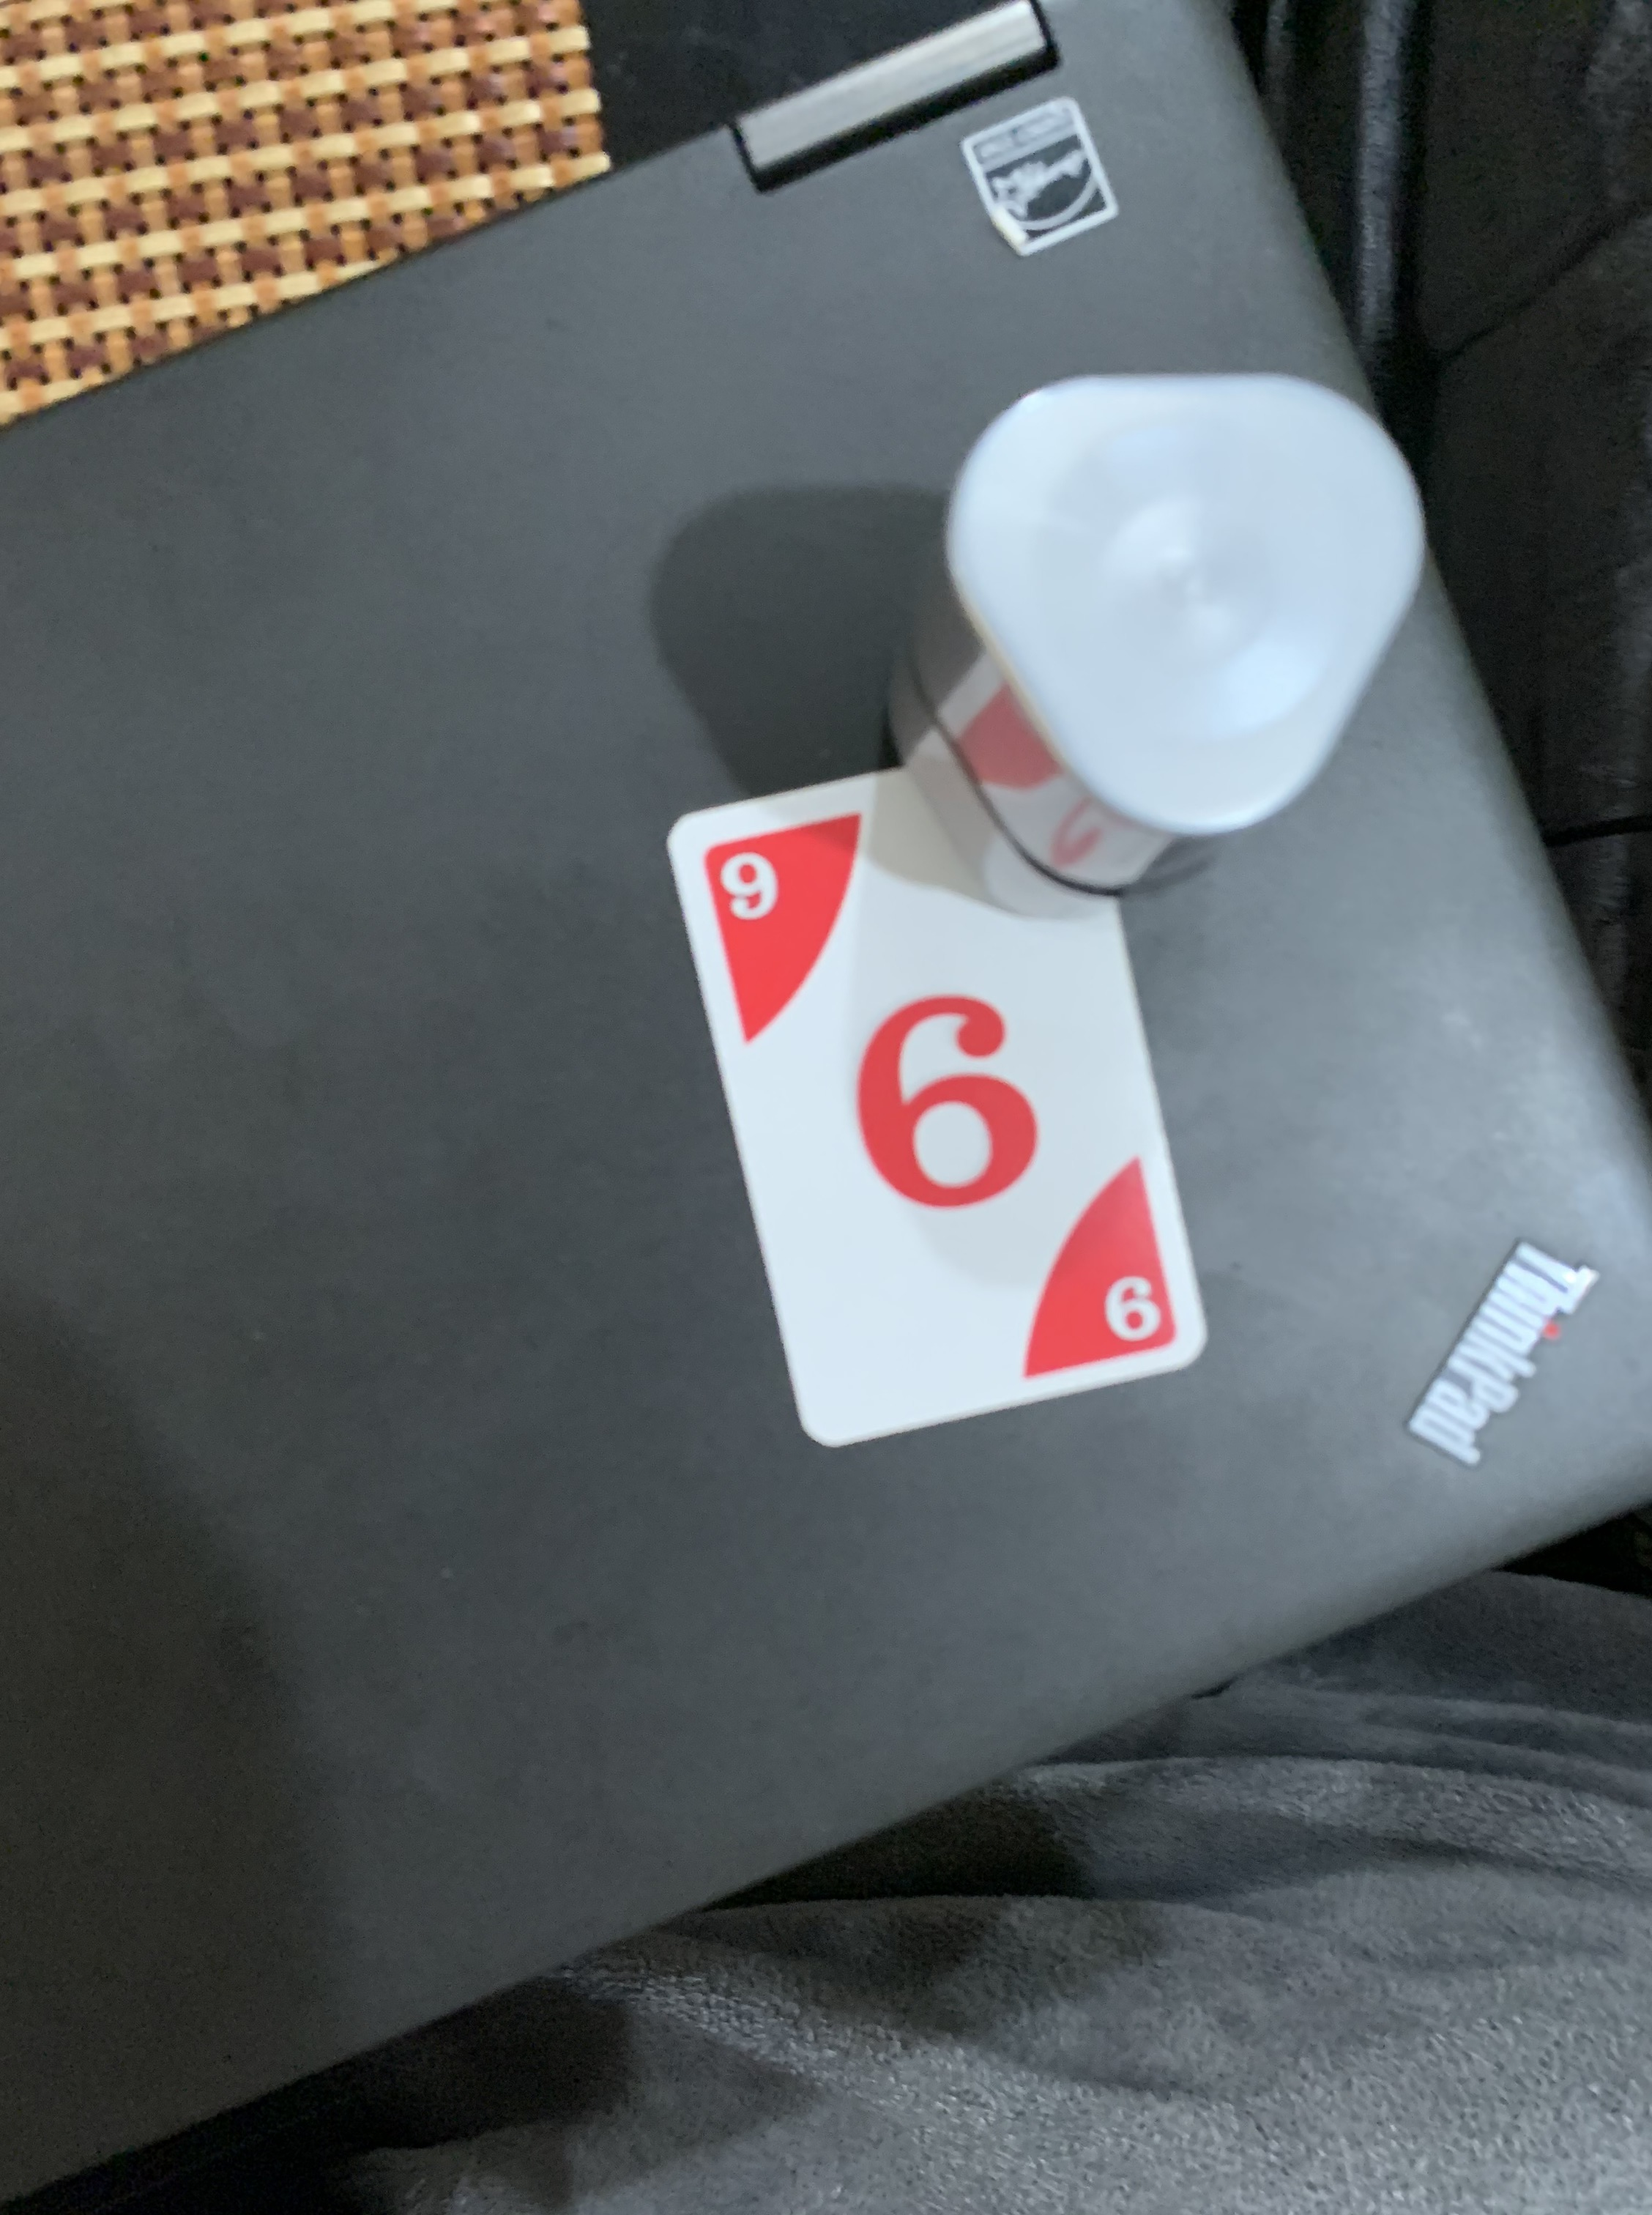six: (656, 746, 1223, 1462)
